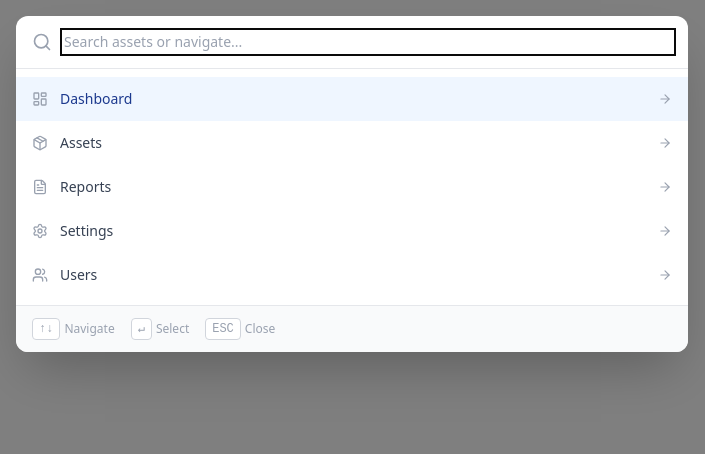
Test: CommandPalette › searches assets after typing and renders matching results
The width and height of the screenshot is (705, 454).
Type "macbook" into the field with placeholder "Search assets or navigate...". click: point(368, 42)
box: [64,32,672,52]
Wait 300 ms
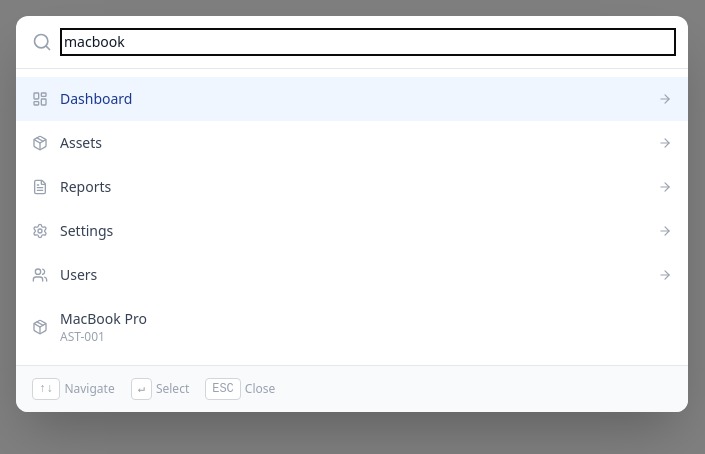
Check: the text "MacBook Pro" is shown, box [60,309,147,328]
Check: the text "AST-001" is shown, box [60,328,105,345]
